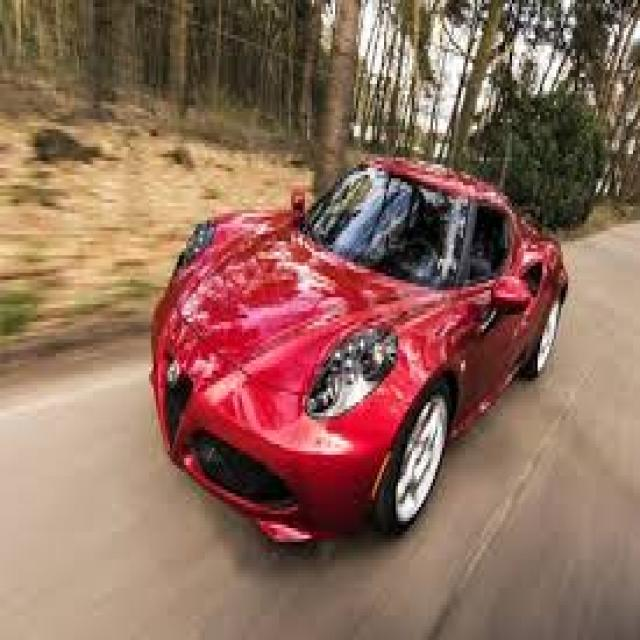Car: (146, 149, 572, 565)
